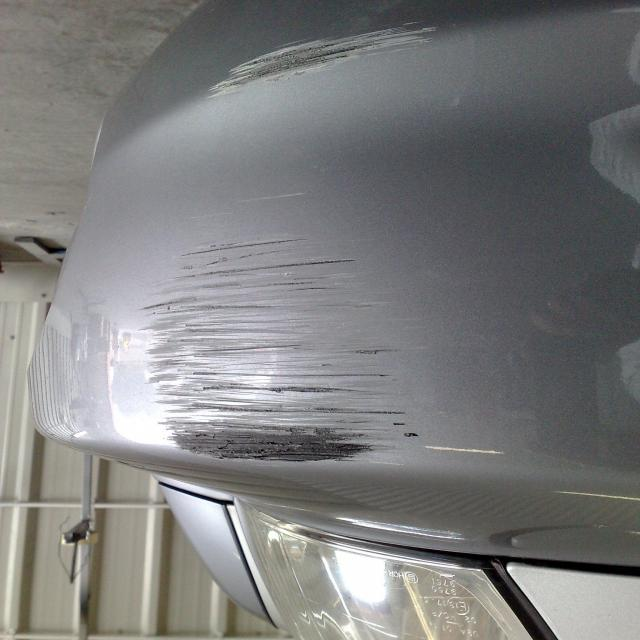scratch: (115, 225, 522, 494), (170, 5, 452, 110)
